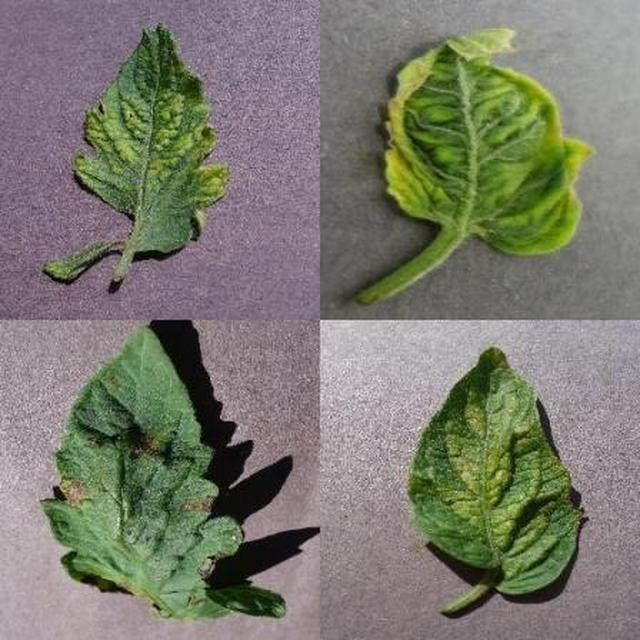Mosaic Virus Leaf: (108, 63, 640, 640)
